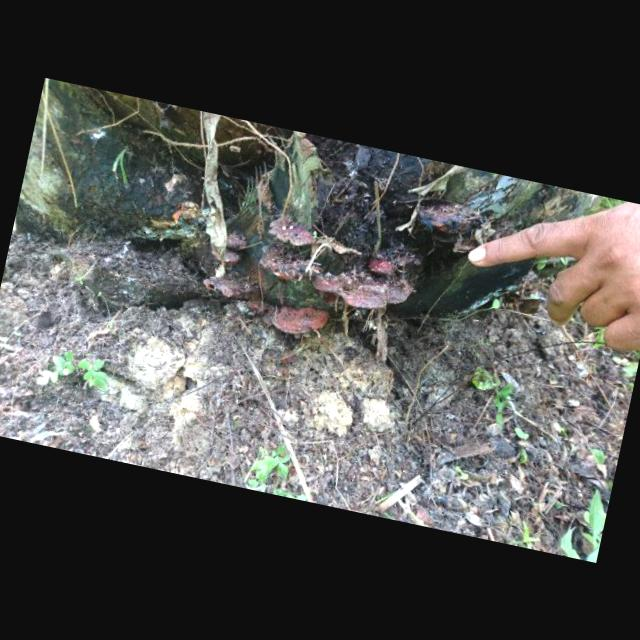ganoderma: (308, 258, 415, 321), (271, 300, 330, 343), (256, 244, 311, 287), (200, 270, 262, 307), (263, 216, 319, 251), (213, 229, 252, 271), (366, 255, 402, 279)
